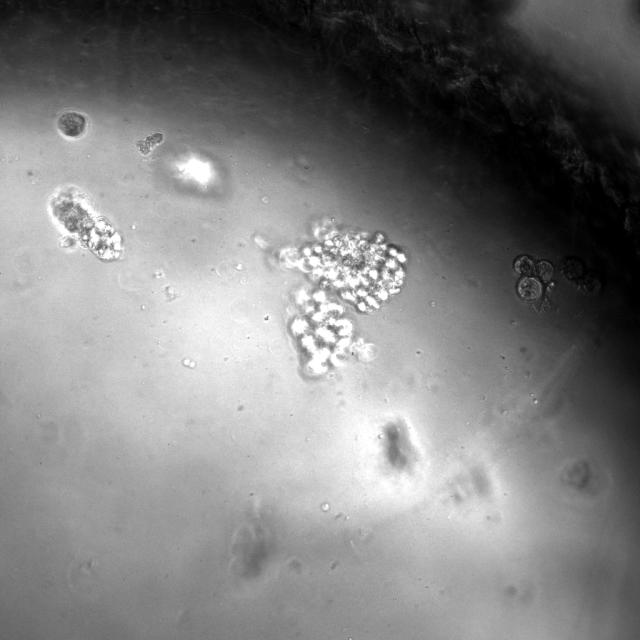organoid: (278, 220, 408, 375), (48, 184, 123, 261), (513, 254, 554, 309), (560, 256, 601, 294), (56, 108, 89, 139), (136, 132, 163, 155)
